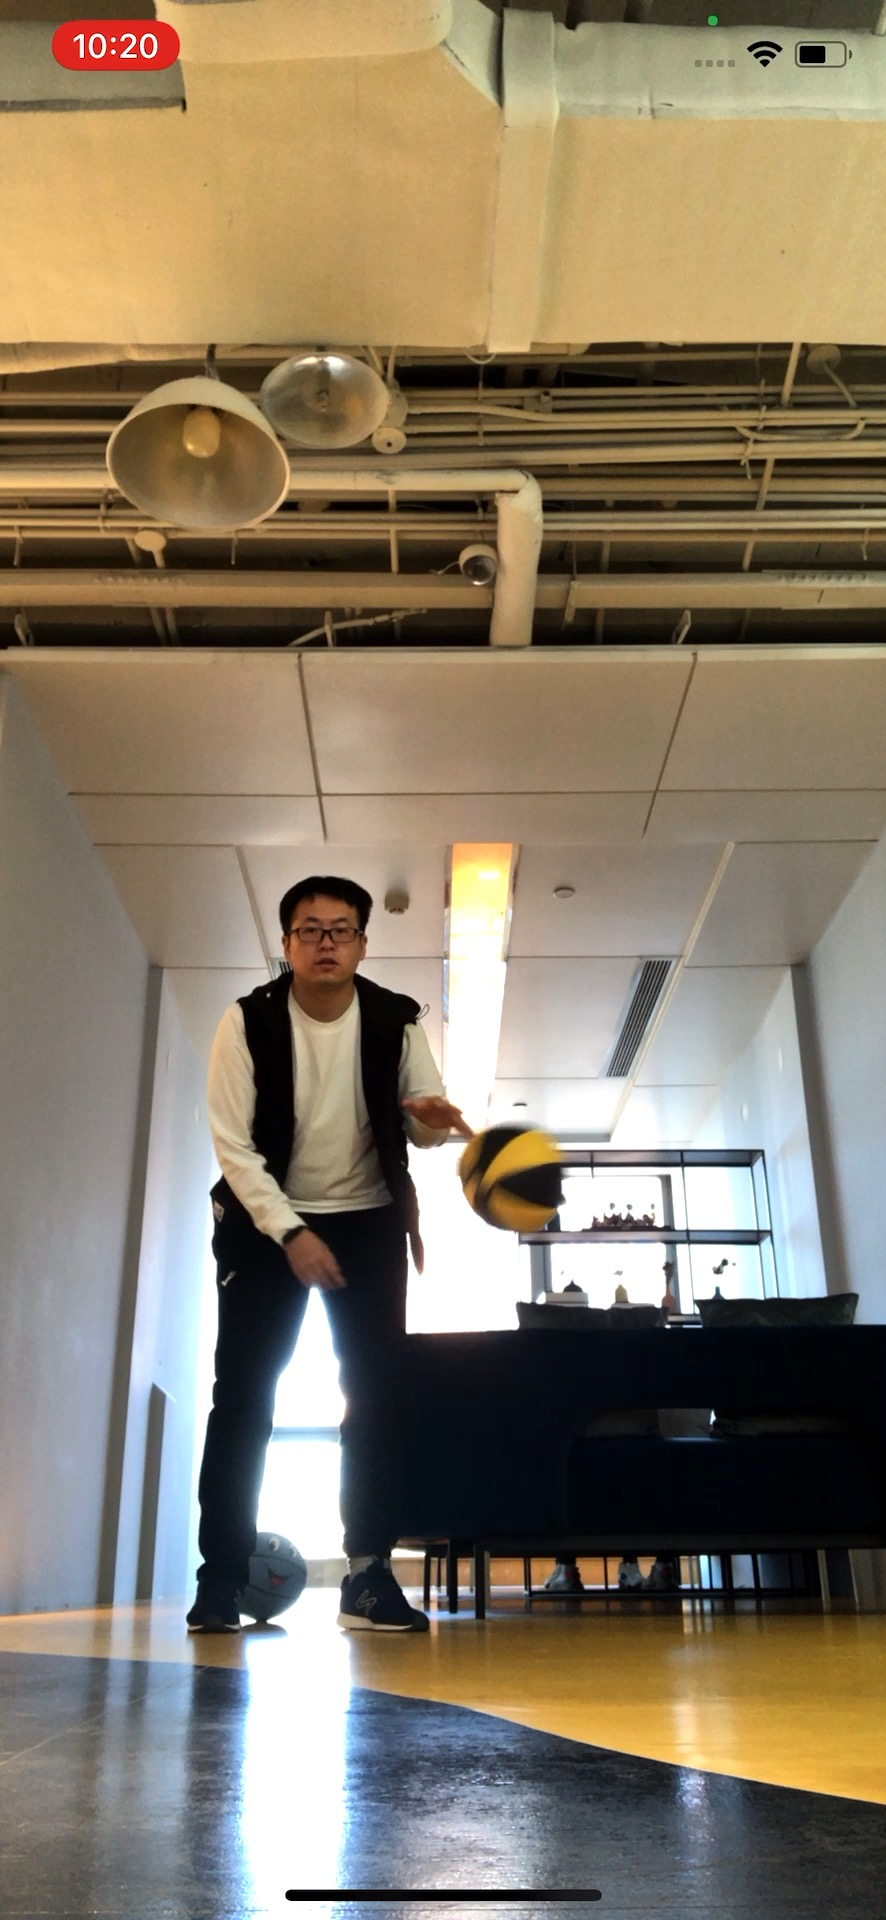ball: (456, 1120, 570, 1233), (233, 1536, 310, 1619)
